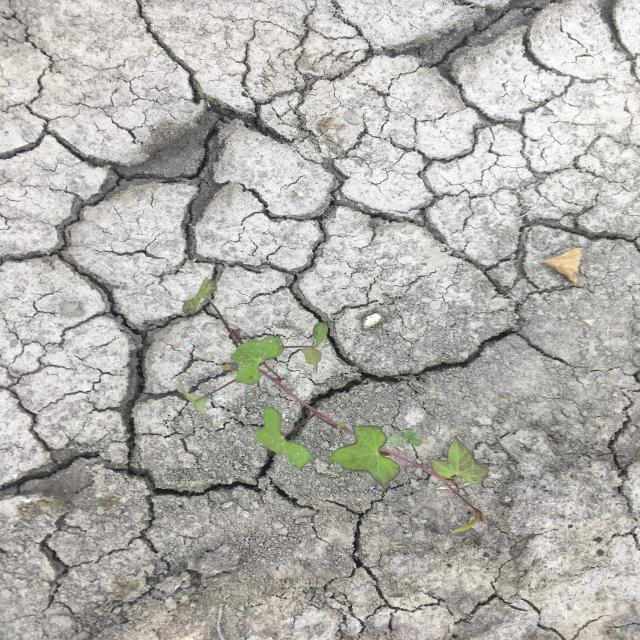MorningGlory: (178, 275, 492, 537)
